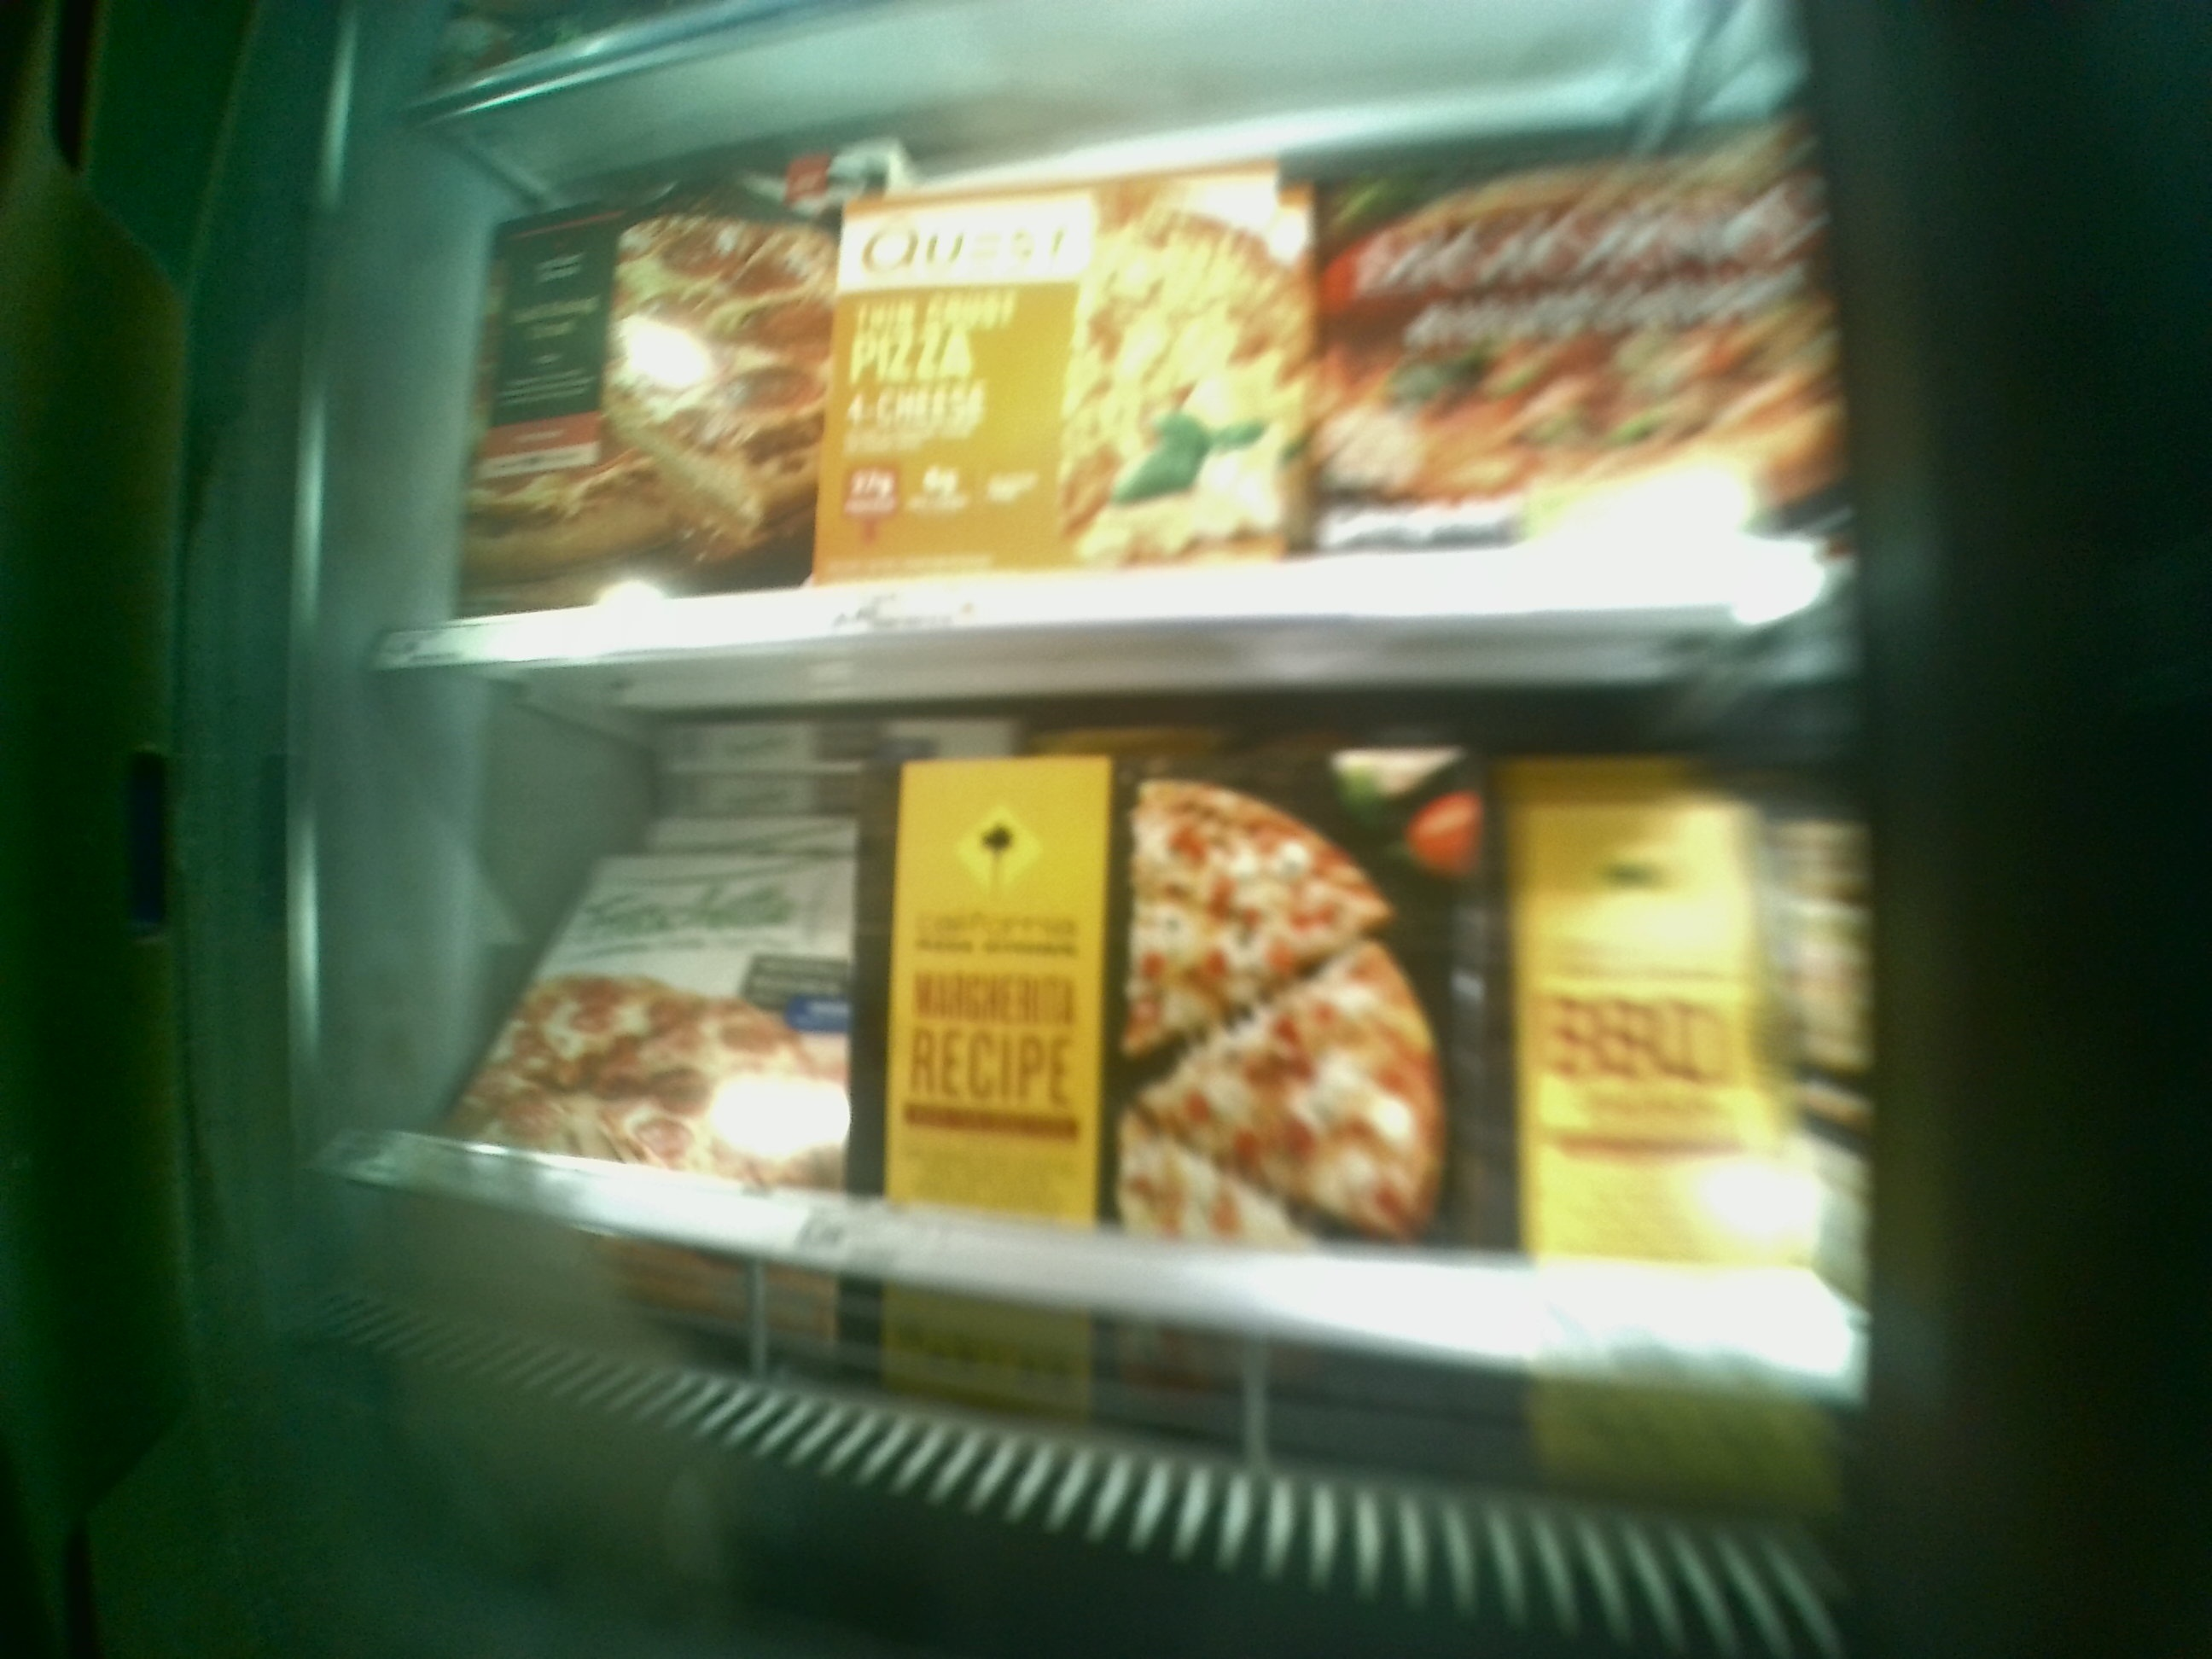pizza: (892, 762, 1493, 1239), (827, 190, 1299, 547), (432, 817, 843, 1190), (448, 171, 798, 580), (653, 723, 995, 755), (653, 774, 869, 819)
